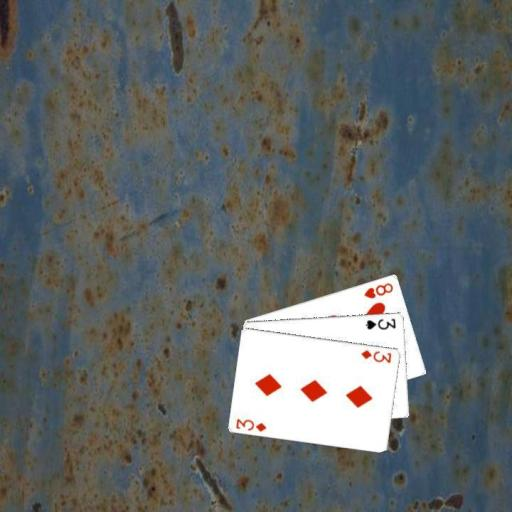card-corner: (360, 280, 394, 300), (358, 346, 393, 365), (233, 415, 268, 433), (362, 315, 398, 331)
